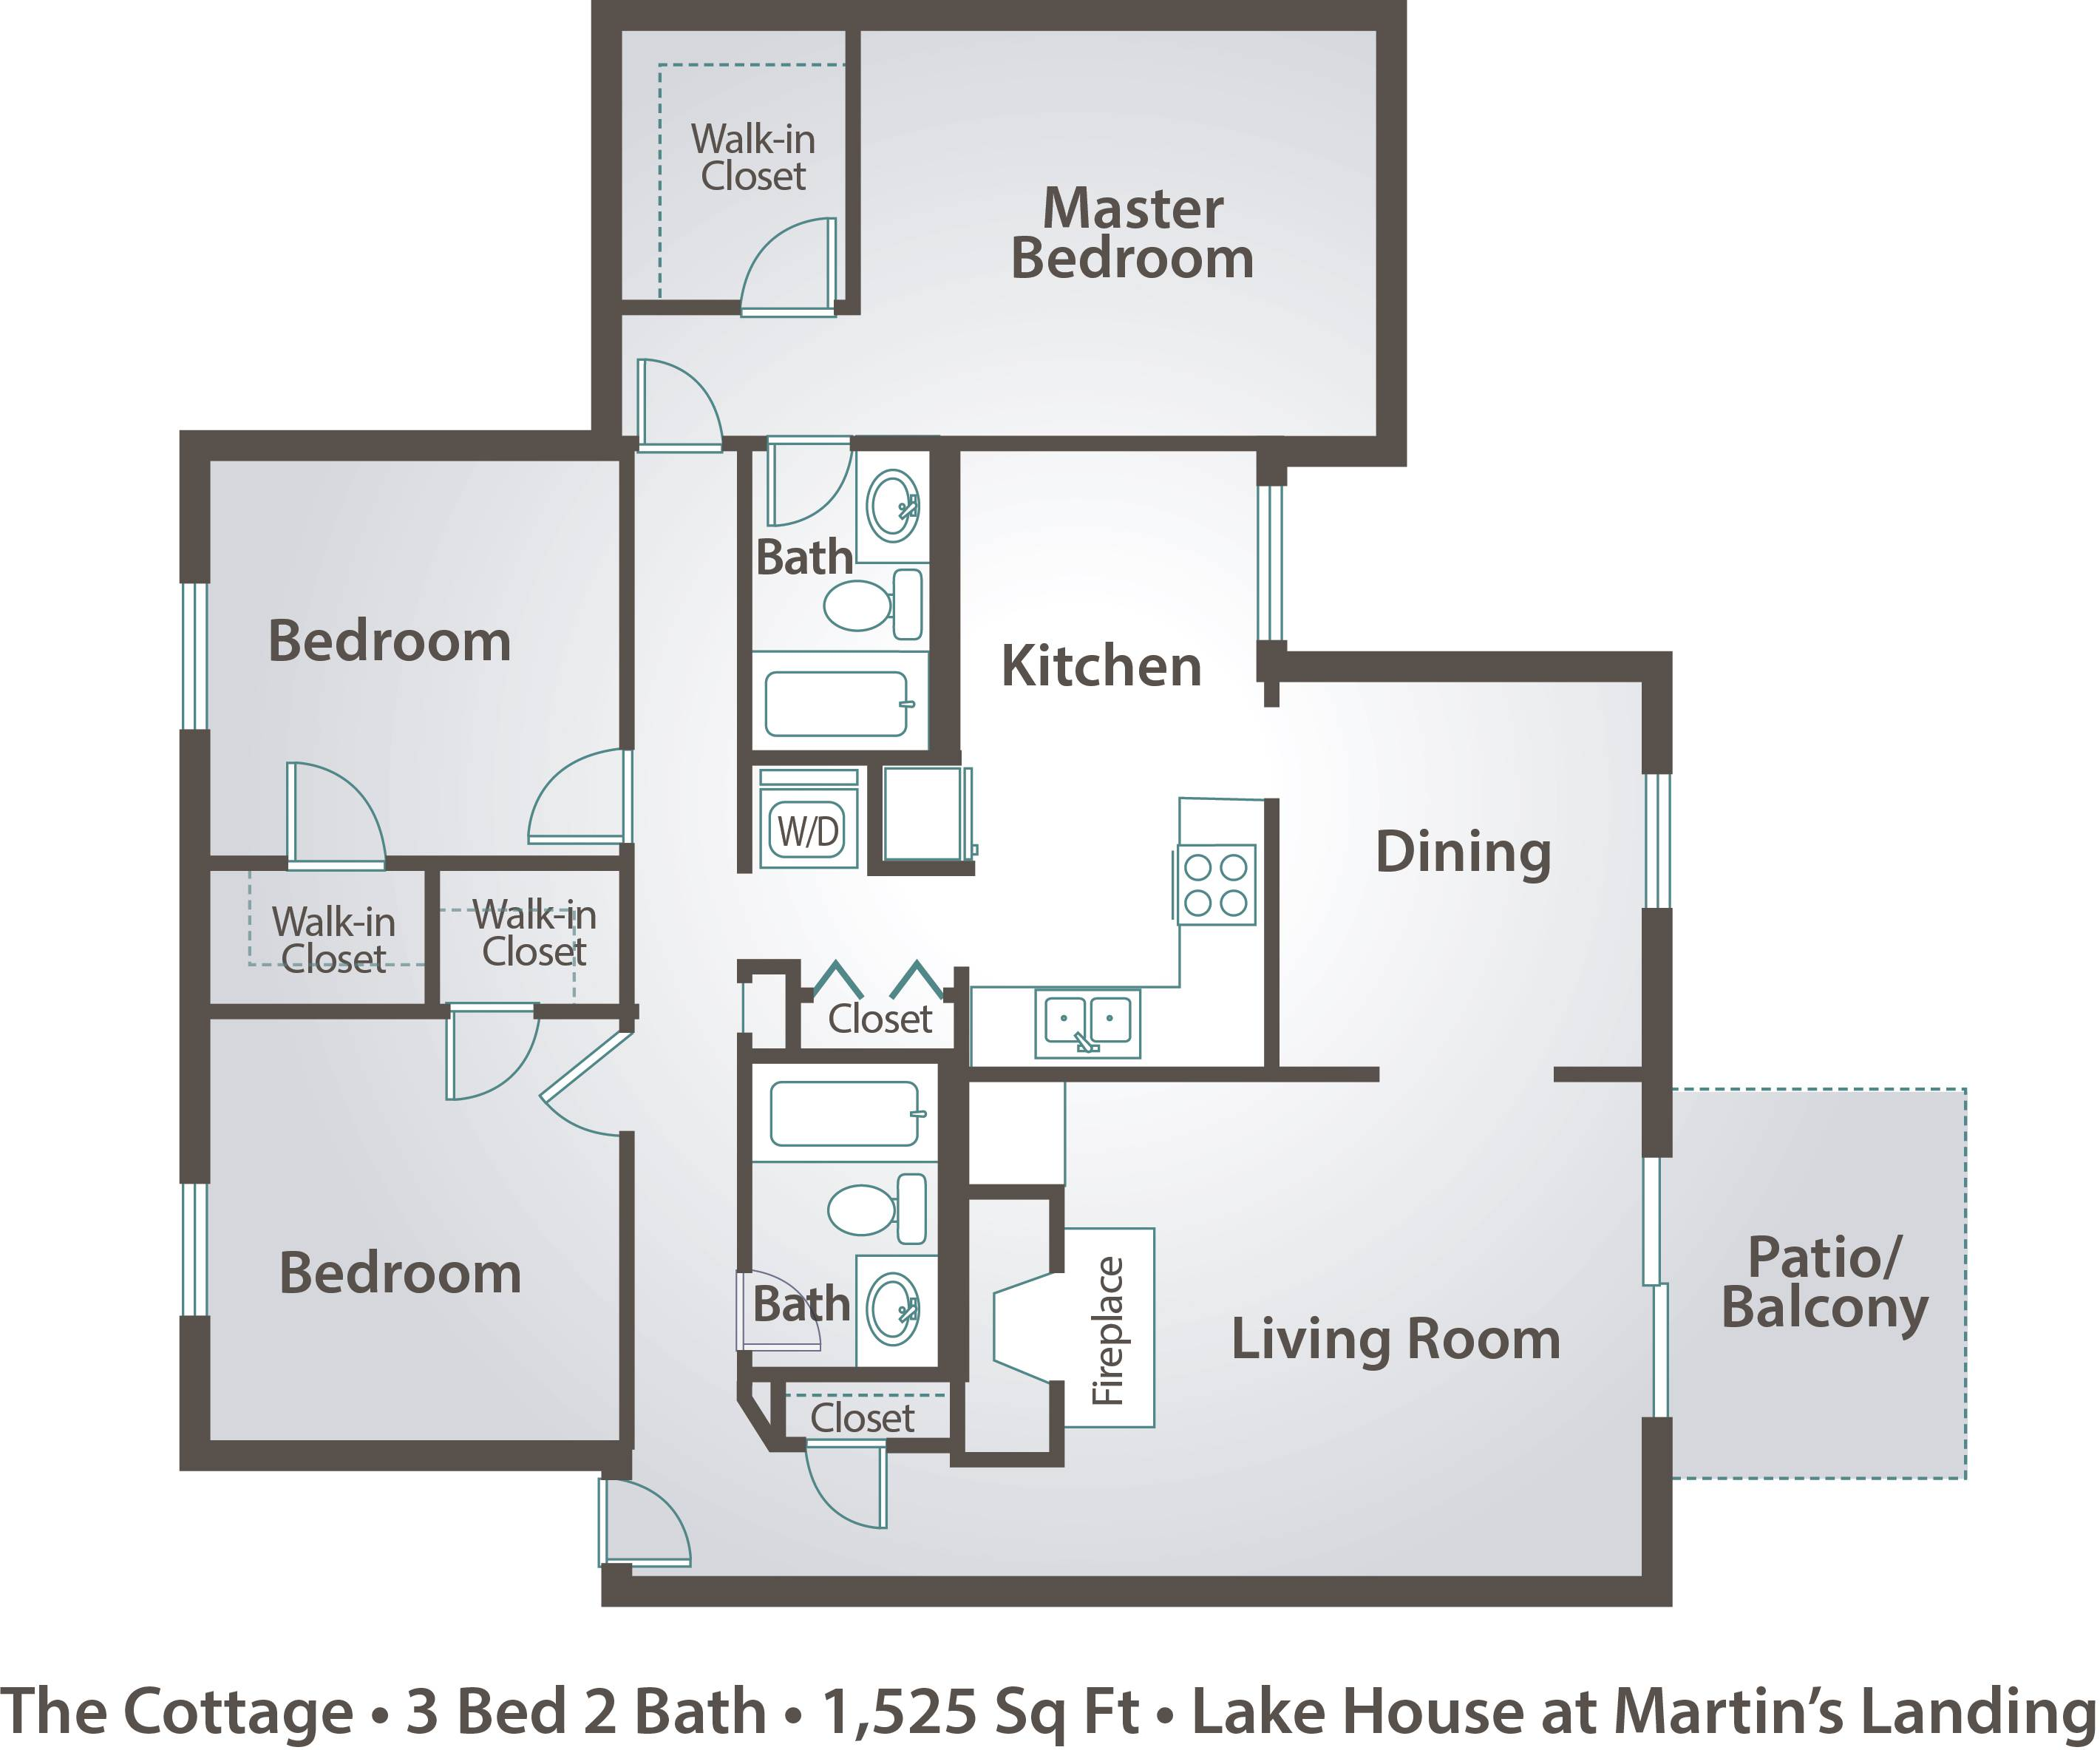door: (522, 742, 617, 846), (283, 771, 394, 860), (741, 209, 839, 295), (434, 1024, 534, 1108), (535, 1049, 617, 1139), (806, 1455, 893, 1535), (766, 450, 846, 532), (633, 354, 720, 429), (757, 1268, 828, 1357), (635, 1480, 701, 1569), (884, 944, 942, 1003), (813, 944, 863, 998)
